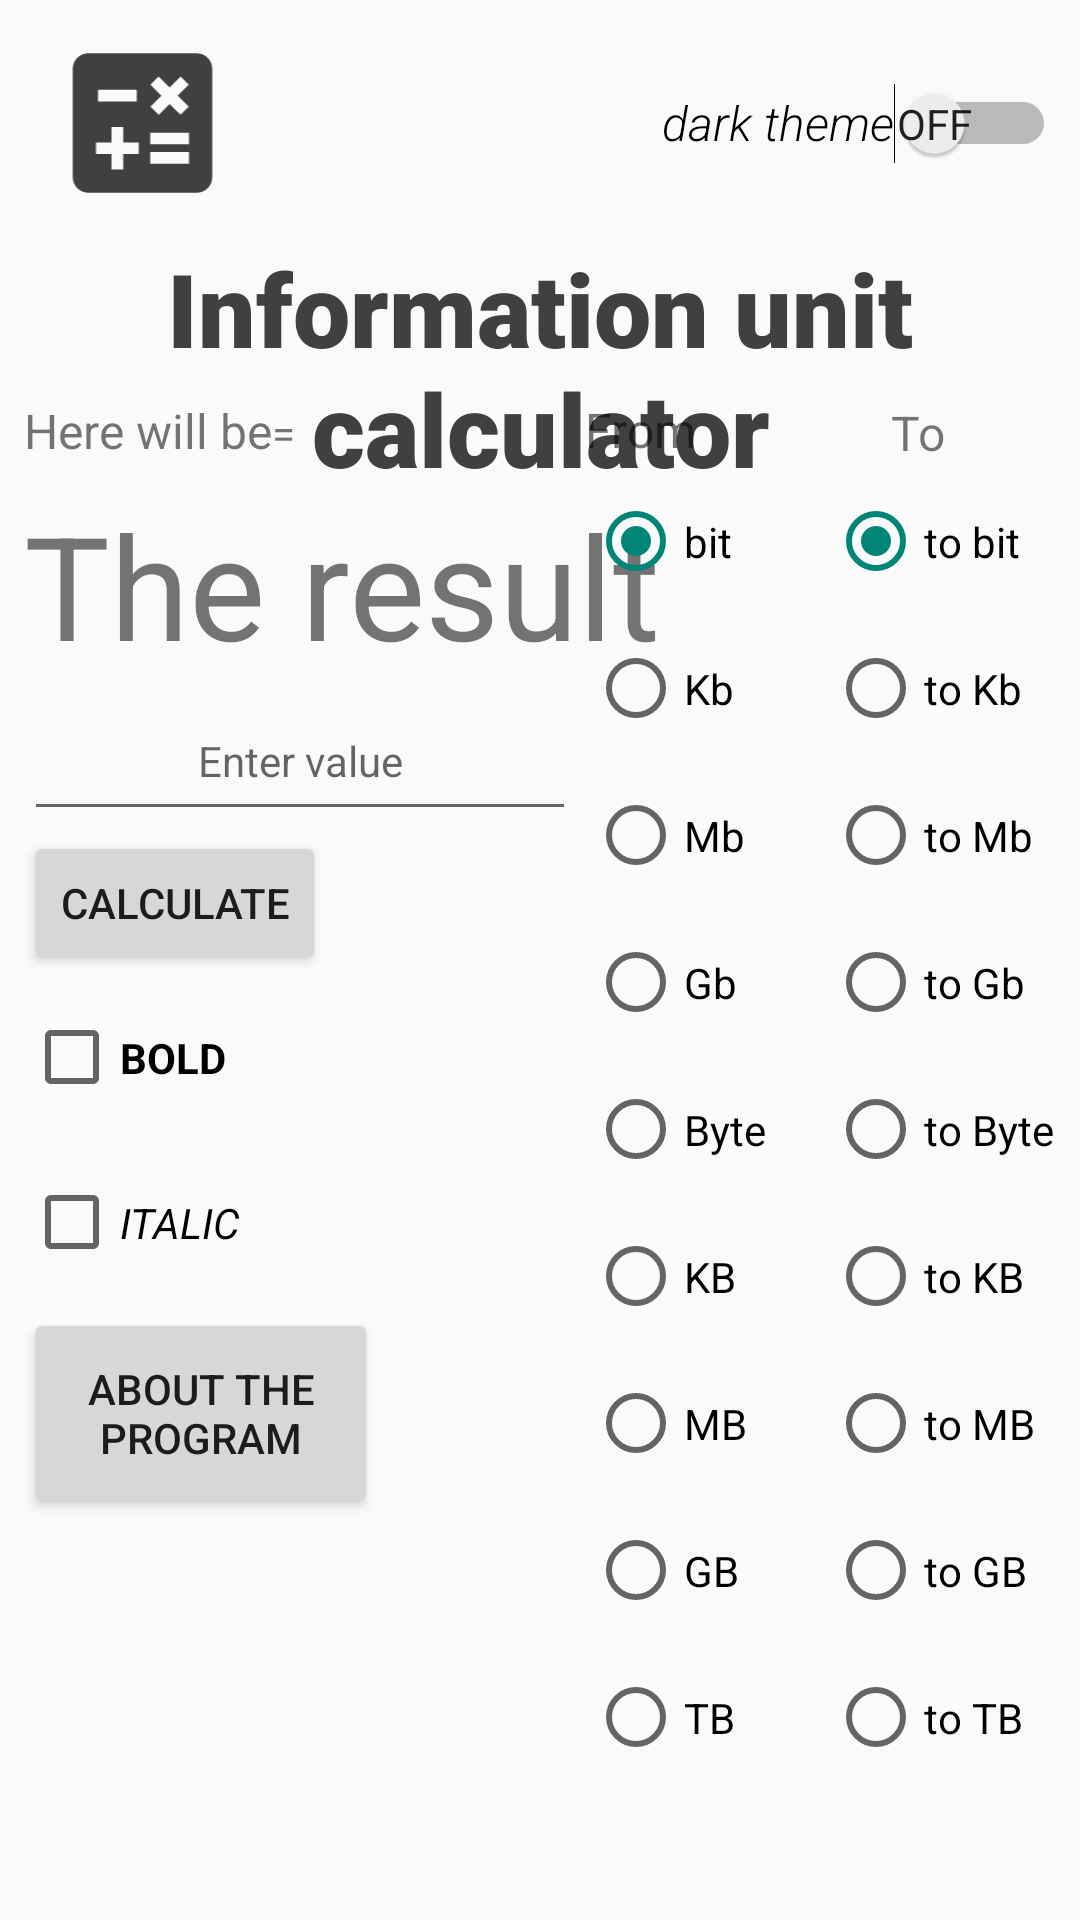

Screen size 1080×1920. Icon name, then its box in pixels as (x1, y1, x2, y2):
calculate: (72, 53, 213, 193)
